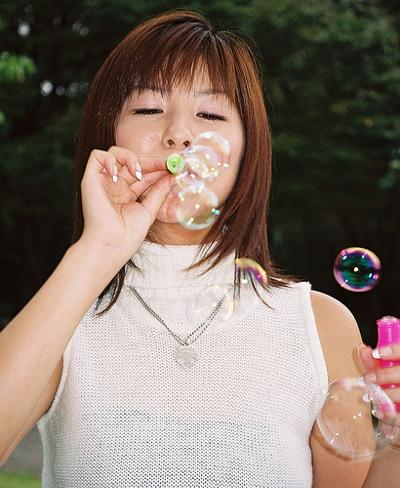person: (4, 11, 381, 488)
